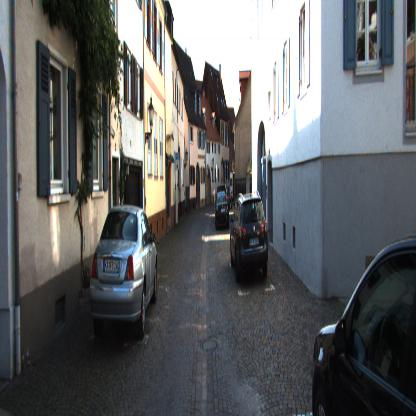car: (89, 204, 158, 344), (231, 196, 268, 286), (215, 186, 234, 231)
